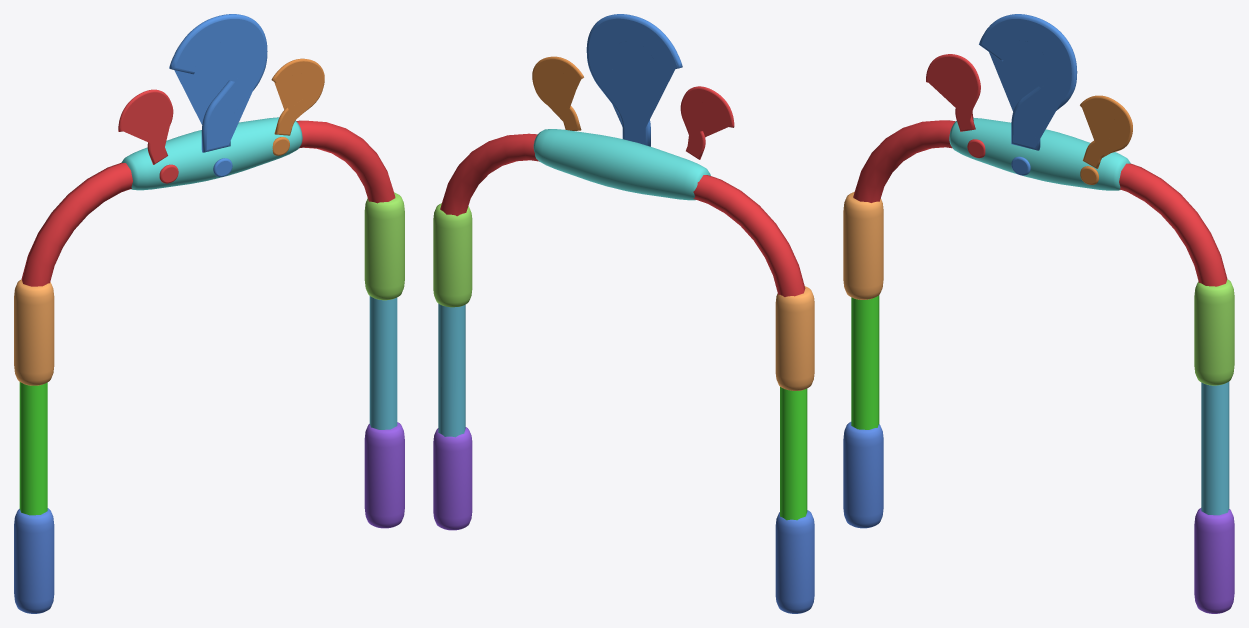
File: Door2.fbx
3 renders of one model, left to right at view 1: azimuth 30°, elevation 25°; view 2: azimuth 150°, elevation 25°; view 3: azimuth 330°, elevation 25°, orthographic. The views are drawn at different scales.
Visible parts, largest first — view 1: L, R, ?, Top, ? l, ? r; view 2: L, R, ?, Top, ? l, ? r; view 3: R, L, ?, Top, ? l, ? r.
Boxes of the visible parts, <box> form: L: <box>14,163,132,613</box>; R: <box>296,120,404,528</box>; ?: <box>169,14,267,176</box>; Top: <box>121,117,302,190</box>; ? l: <box>118,89,178,183</box>; ? r: <box>271,58,324,155</box>; L: <box>693,175,814,613</box>; R: <box>433,133,539,530</box>; ?: <box>586,14,682,146</box>; Top: <box>533,129,710,200</box>; ? l: <box>680,86,734,159</box>; ? r: <box>532,56,583,130</box>; R: <box>1119,163,1234,613</box>; L: <box>843,120,955,528</box>; ?: <box>979,14,1077,175</box>; Top: <box>949,117,1130,190</box>; ? l: <box>926,54,985,158</box>; ? r: <box>1080,95,1132,184</box>.
Size of the model in its own units: 0.2175 by 0.2999 by 0.0288.
